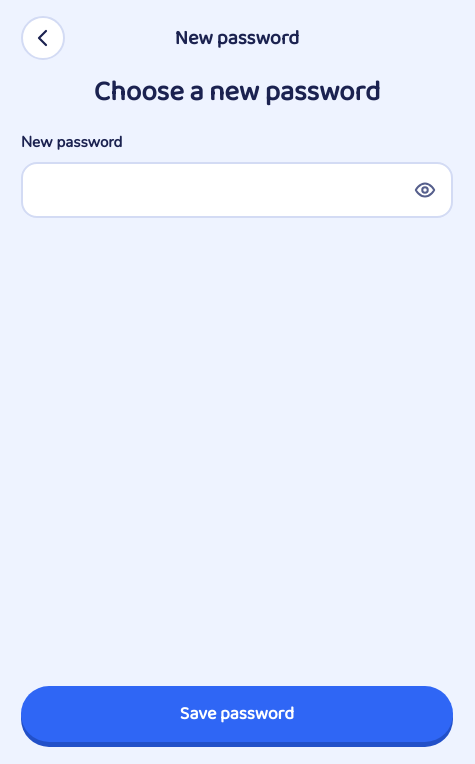
forgot and reset password › saves a new password and offers to log in
Type "weak" into the password field labelled "New password" at (237,190), box [21, 162, 453, 218]
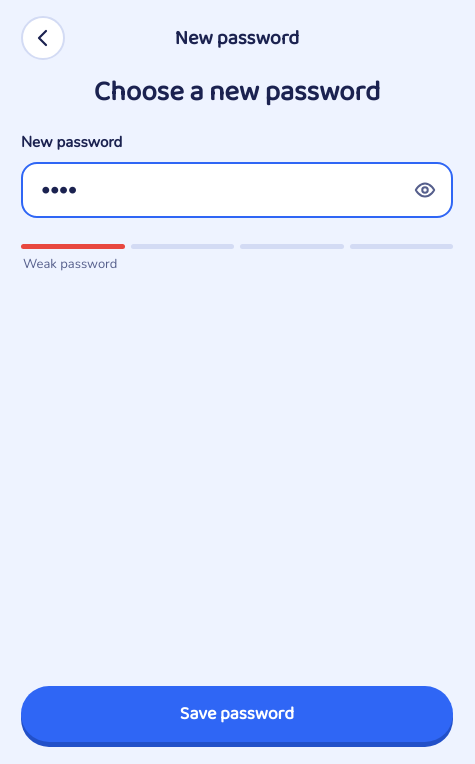
Click the button "Save password" at (237,714), box [21, 686, 453, 742]
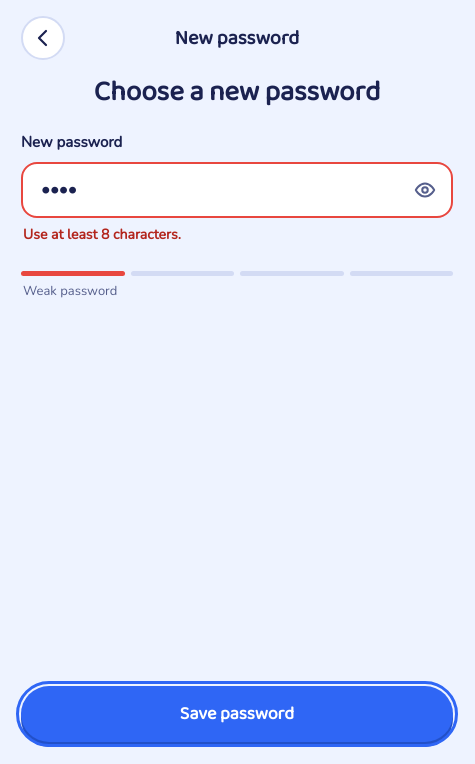
Expected: the text "Use at least 8 characters." is shown, [23, 225, 181, 244]
Type "NewPass99" into the password field labelled "New password" at (237,190), box [21, 162, 453, 218]
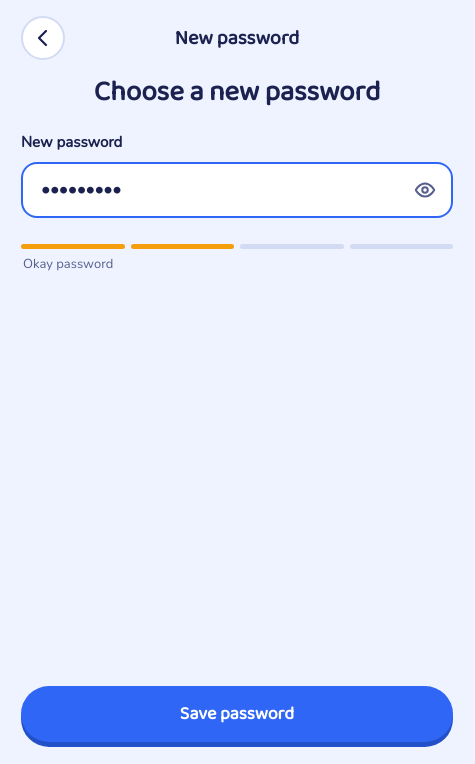
Click the button "Save password" at (237,714), box [21, 686, 453, 742]
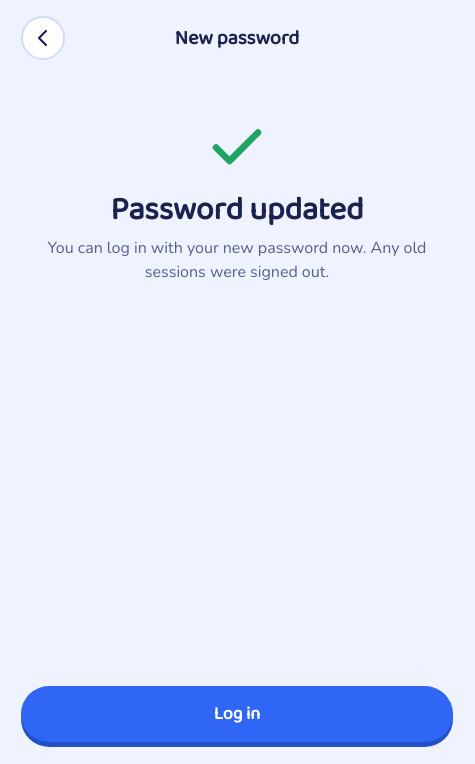
Expected: the heading "Password updated" is shown, [111, 185, 363, 236]
